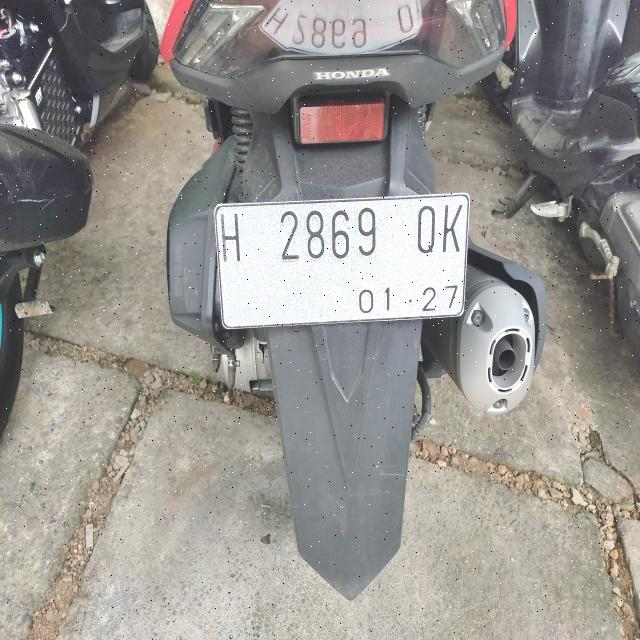plate: (215, 194, 468, 327)
